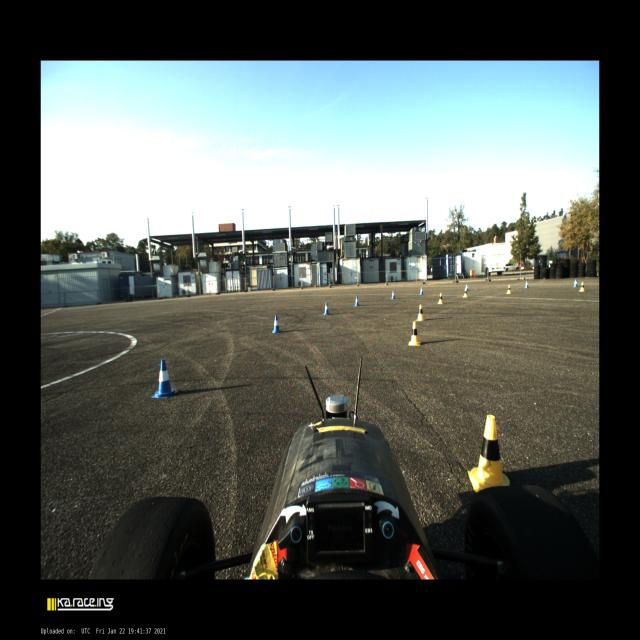blue_cone: (152, 359, 178, 398), (272, 316, 281, 334), (323, 302, 330, 315), (354, 296, 360, 306), (419, 287, 424, 295), (573, 279, 578, 287), (524, 280, 529, 288), (391, 291, 395, 299), (465, 284, 469, 292)
yellow_cone: (468, 415, 510, 492), (408, 321, 421, 346), (416, 305, 425, 320), (578, 281, 585, 292), (438, 293, 443, 304), (463, 288, 468, 298), (506, 285, 511, 294)
